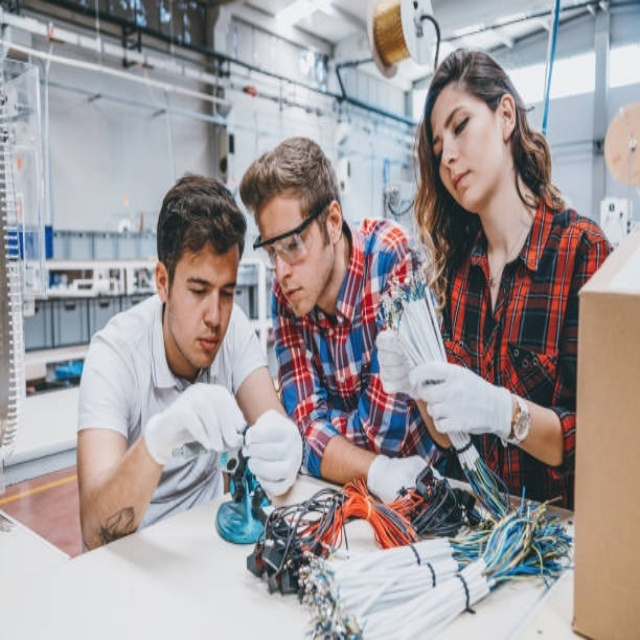Gafas: (254, 204, 327, 271)
Guantes: (142, 384, 247, 469), (410, 362, 517, 442), (244, 410, 304, 497), (367, 452, 431, 506), (376, 331, 417, 396)
Sin_gafas: (432, 96, 477, 162), (181, 267, 235, 304)
Sin_mascara: (181, 329, 223, 367), (451, 162, 477, 204), (283, 279, 308, 315)
